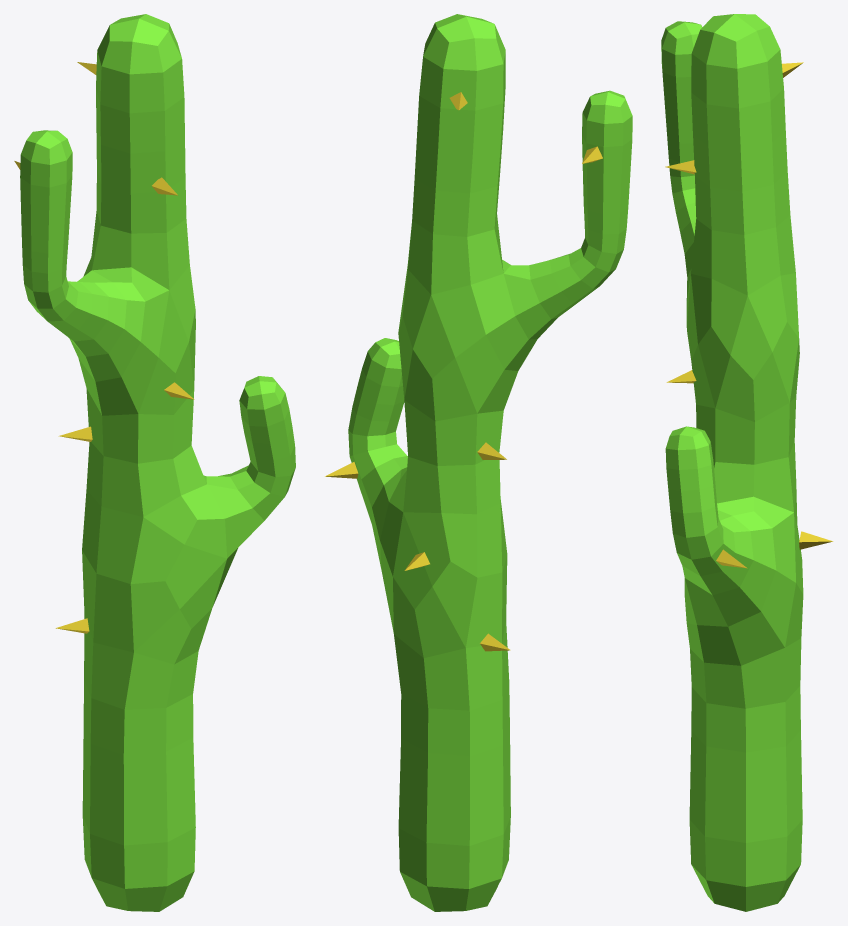
File: KaktusUji8.glb
The picture shows the model from 3 angles, left to right: view 1: azimuth 30°, elevation 25°; view 2: azimuth 150°, elevation 25°; view 3: azimuth 270°, elevation 25°; orthographic projection.
Parts seen in each view (by area): view 1: Plane; view 2: Plane; view 3: Plane.
Boxes of the visible parts, x1,y1,x2,y2 form: Plane: [20, 14, 295, 911]; Plane: [348, 14, 632, 911]; Plane: [661, 14, 803, 911].
Size of the model in its own units: 1.24 by 3.85 by 0.677.
